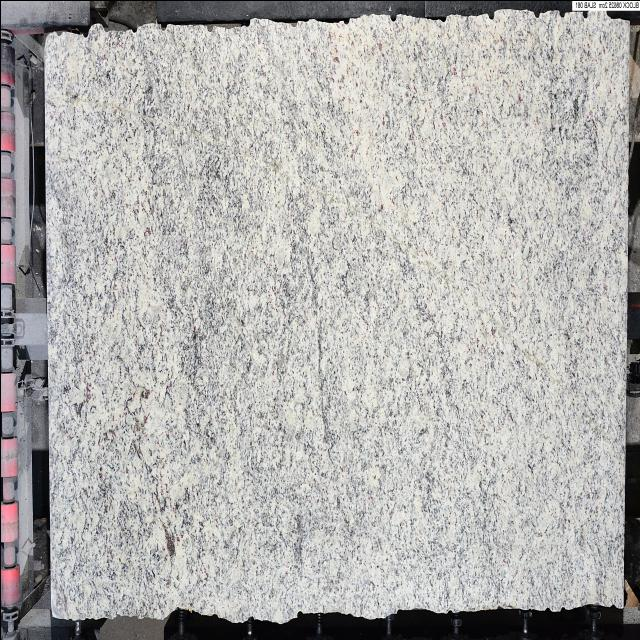chapa: (44, 10, 628, 622)
